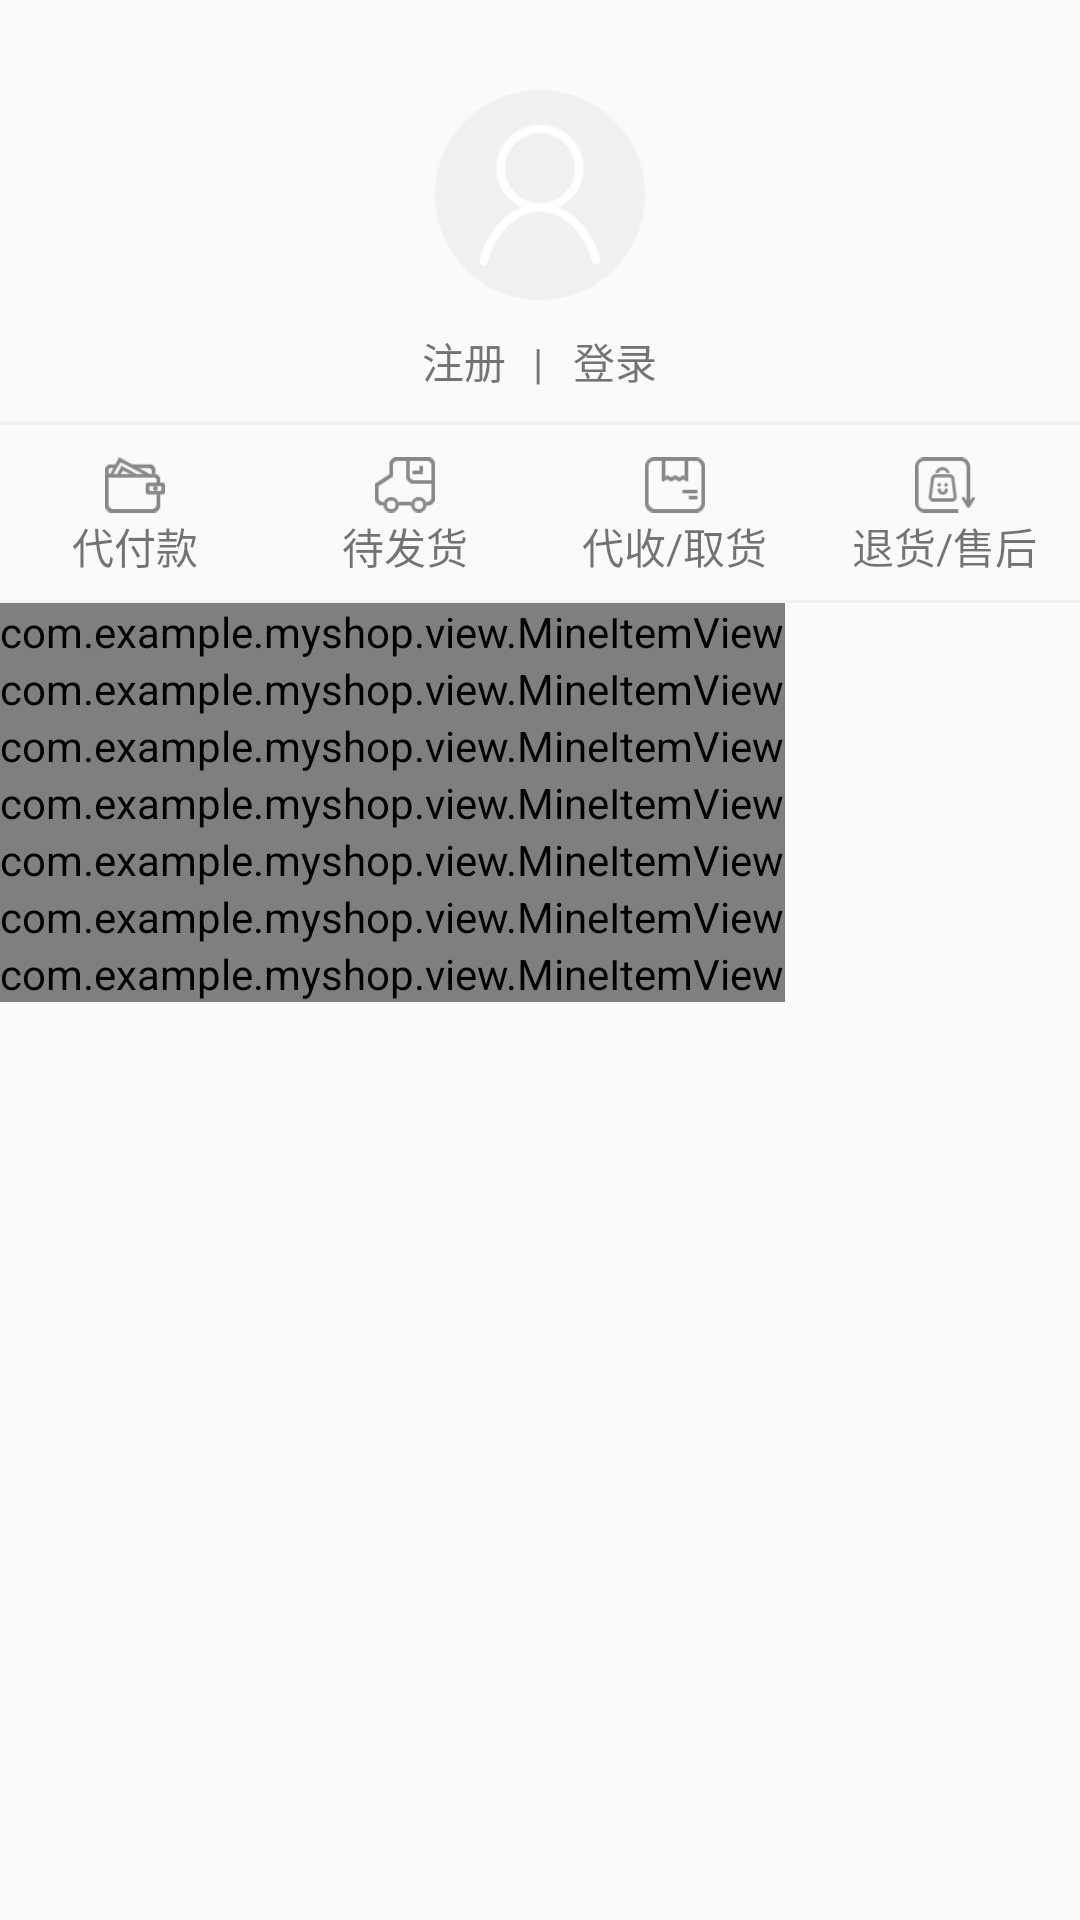

Icon bounding boxes for this 1080*1920 phone screenshot, format (x1, y1, x2, y2):
me wait cancel: (915, 457, 975, 513)
